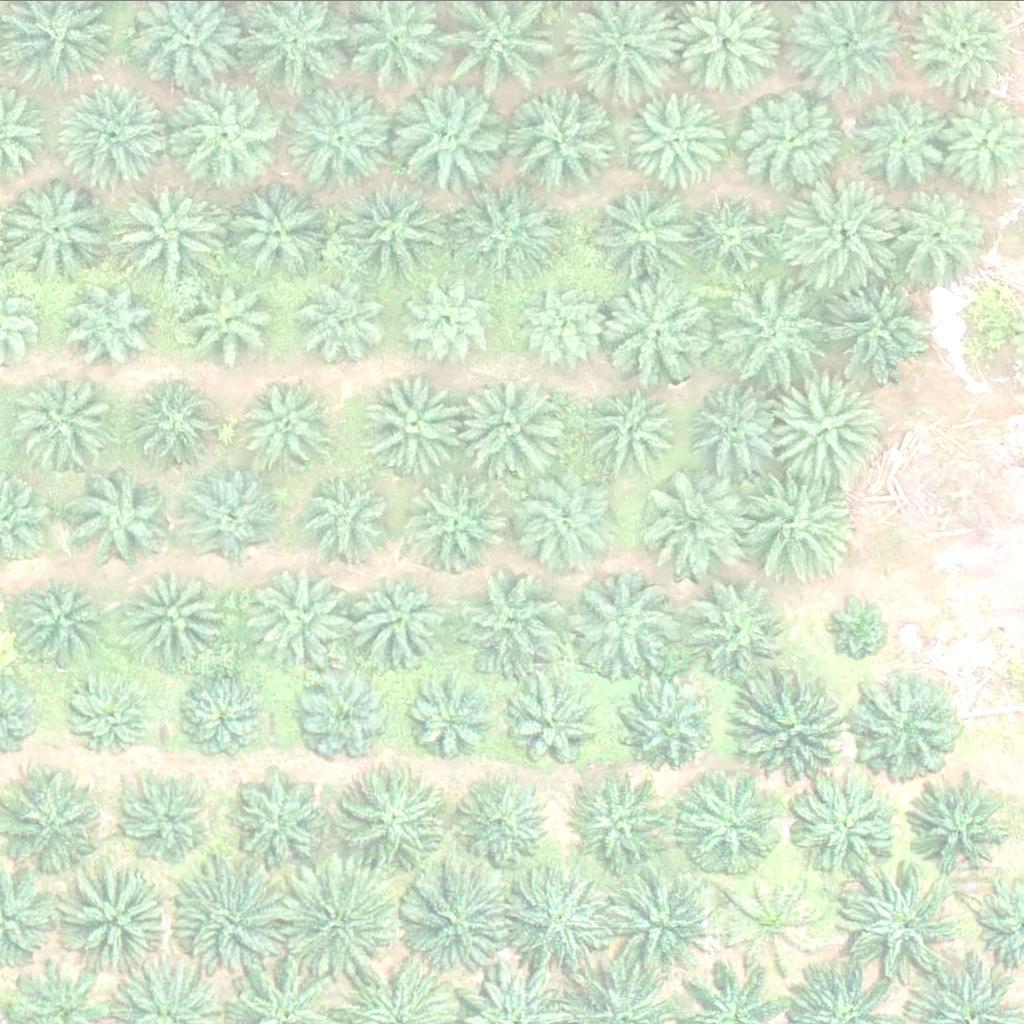Kelapa_Sawit: (400, 88, 513, 201), (705, 280, 818, 393), (822, 267, 935, 380), (769, 373, 882, 486), (510, 468, 623, 581), (629, 468, 742, 581), (743, 476, 856, 589), (570, 571, 683, 684), (739, 672, 852, 785), (59, 77, 172, 190), (121, 171, 234, 284), (283, 859, 396, 972), (172, 859, 285, 972), (54, 860, 167, 973), (603, 278, 717, 390), (403, 468, 517, 580), (789, 765, 903, 877), (500, 864, 614, 976), (613, 863, 727, 975), (335, 174, 449, 286), (244, 559, 358, 671), (397, 856, 511, 968), (505, 91, 618, 203), (453, 173, 566, 285), (593, 176, 706, 288), (781, 176, 894, 288), (456, 365, 569, 477), (453, 565, 566, 677), (855, 671, 968, 783), (844, 867, 957, 979), (288, 79, 401, 191), (357, 370, 470, 482), (348, 762, 461, 874), (631, 89, 732, 189), (743, 89, 844, 189), (852, 87, 953, 187), (891, 192, 992, 292), (688, 379, 789, 479), (575, 375, 676, 475), (689, 575, 790, 675), (621, 678, 722, 778), (717, 869, 818, 969), (183, 83, 284, 183), (227, 187, 328, 287), (10, 176, 111, 276), (235, 377, 336, 477), (304, 465, 405, 565), (296, 665, 397, 765), (236, 773, 337, 873), (908, 776, 1008, 876), (579, 772, 679, 872), (680, 779, 780, 879), (13, 376, 113, 476), (70, 467, 170, 567), (194, 467, 294, 567), (130, 562, 230, 662), (351, 569, 451, 669), (175, 664, 275, 764), (689, 196, 777, 284), (519, 279, 607, 367), (508, 679, 596, 767), (462, 782, 550, 870), (184, 276, 272, 364), (304, 271, 392, 359), (129, 383, 217, 471), (13, 575, 101, 663), (405, 676, 493, 764), (69, 669, 157, 757), (74, 279, 162, 366), (409, 277, 497, 364), (120, 778, 208, 865), (818, 590, 893, 665)
